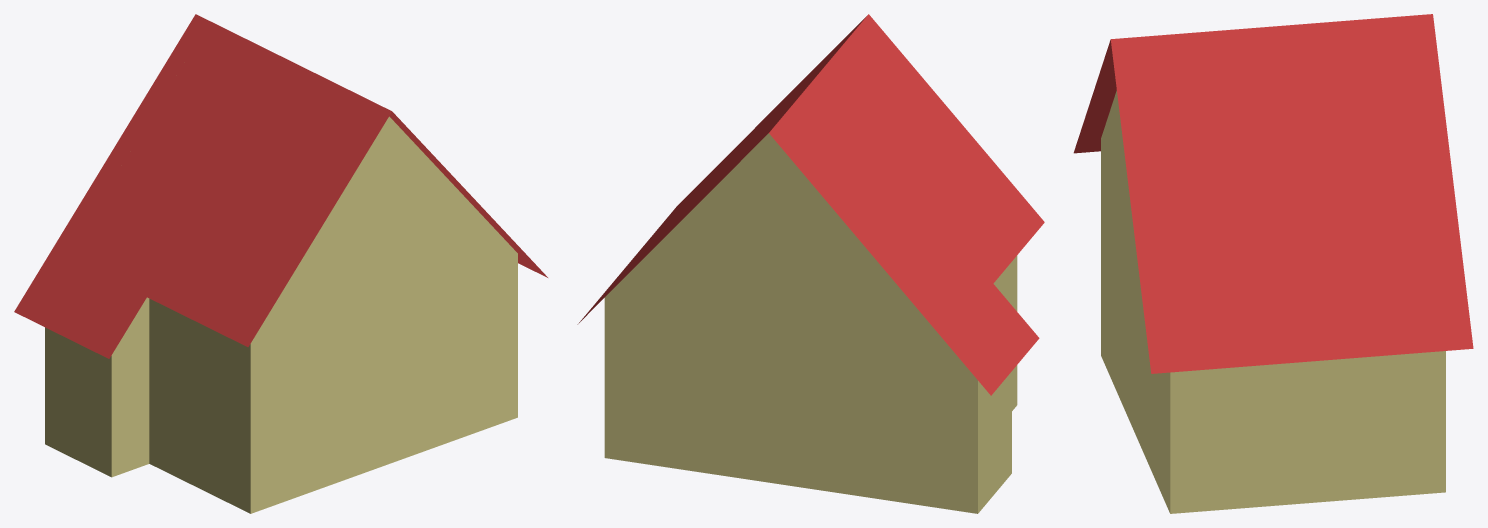
The picture shows the model from 3 angles, left to right: view 1: azimuth 30°, elevation 25°; view 2: azimuth 150°, elevation 25°; view 3: azimuth 270°, elevation 25°; orthographic projection. The views are drawn at different scales.
Bounding box in the file's own units: 16.89 × 12.67 × 13.76.
